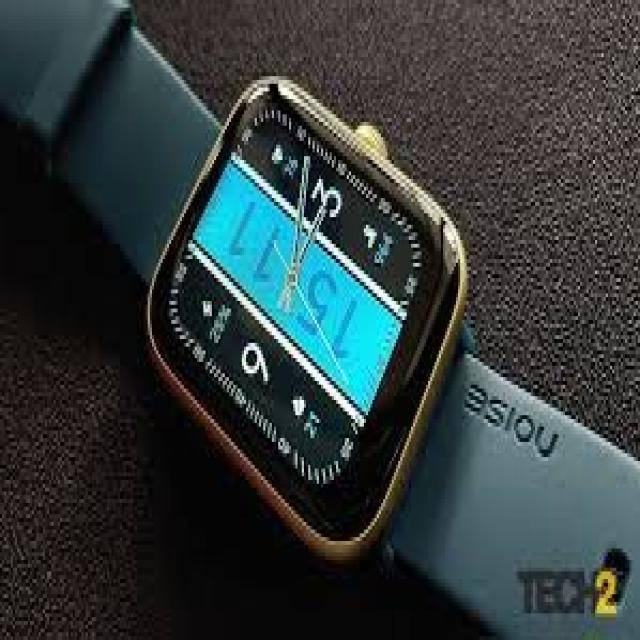objects: (148, 76, 464, 560), (385, 320, 638, 636), (0, 0, 220, 278)
